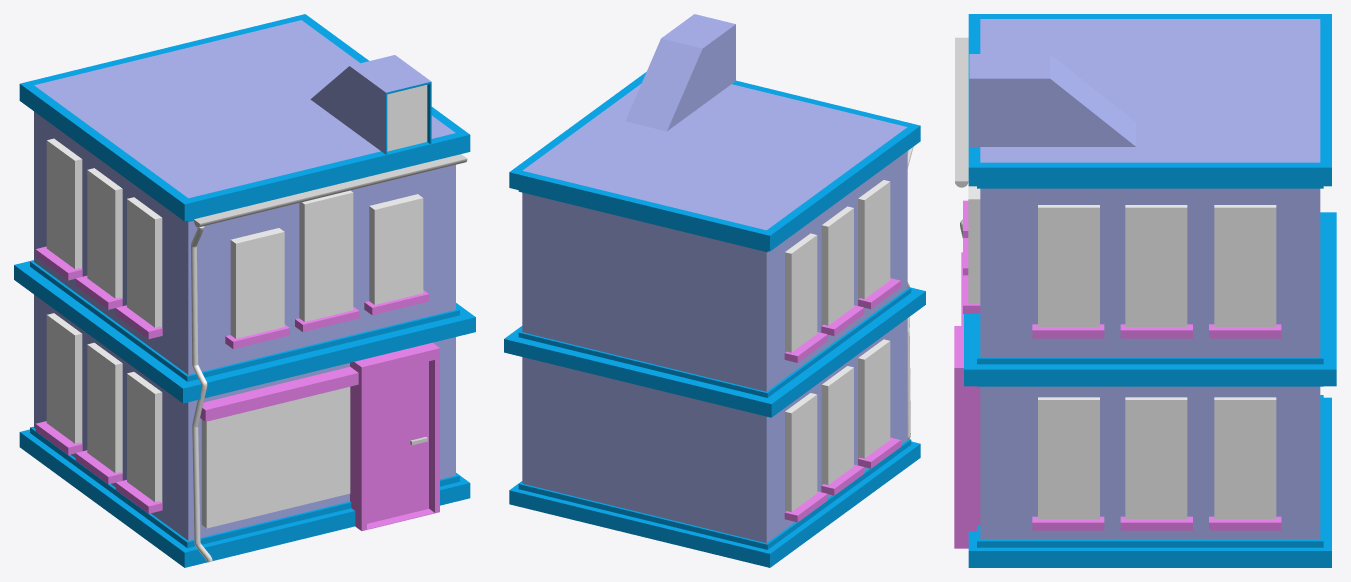
Rendered from Building3.fbx.
3 views of the same model, side by side, from view 1: azimuth 30°, elevation 25°; view 2: azimuth 150°, elevation 25°; view 3: azimuth 270°, elevation 25° (orthographic). The views are drawn at different scales.
Parts seen in each view (by area): view 1: Cube_2_2, Cube_5, Cube_1, Cube_16, Cube_15, Cube_33, Cube_34, Cube_32, Cube_26, Cube_2, Cube_28, Cube_27 (+16 smaller); view 2: Cube_2_2, Cube_16, Cube_15, Cube_27, Cube_28, Cube_26, Cube_2, Cube, Cube_3, Cube_10, Cube_1_2, Cube_10_2 (+6 smaller); view 3: Cube_2_2, Cube_15, Cube_16, Cube_25, Cube_24, Cube_6, Cube_4, Cube_23, Cube_7, Cube_1, Cube_1_2, Cube_10 (+9 smaller).
Part boxes in pixels (x1,y1,x2,y2): Cube_2_2: [19, 14, 470, 567]; Cube_5: [201, 387, 350, 528]; Cube_1: [350, 342, 439, 530]; Cube_16: [14, 260, 475, 403]; Cube_15: [310, 55, 431, 154]; Cube_33: [299, 190, 353, 321]; Cube_34: [230, 228, 284, 338]; Cube_32: [369, 194, 423, 304]; Cube_26: [46, 138, 82, 268]; Cube_2: [46, 313, 82, 443]; Cube_28: [127, 197, 162, 327]; Cube_27: [87, 168, 122, 298]; Cube_2_2: [509, 72, 920, 567]; Cube_16: [504, 287, 925, 417]; Cube_15: [625, 14, 735, 131]; Cube_27: [821, 206, 853, 325]; Cube_28: [858, 180, 890, 298]; Cube_26: [785, 233, 817, 352]; Cube_2: [785, 393, 817, 511]; Cube: [821, 366, 853, 484]; Cube_3: [858, 339, 890, 458]; Cube_10: [518, 439, 911, 549]; Cube_1_2: [518, 287, 911, 397]; Cube_10_2: [784, 491, 827, 522]; Cube_2_2: [968, 14, 1331, 567]; Cube_15: [969, 54, 1136, 146]; Cube_16: [964, 212, 1336, 386]; Cube_25: [1214, 205, 1276, 326]; Cube_24: [1125, 205, 1187, 326]; Cube_6: [1125, 397, 1187, 518]; Cube_4: [1214, 397, 1276, 518]; Cube_23: [1038, 205, 1099, 326]; Cube_7: [1038, 397, 1099, 518]; Cube_1: [954, 326, 980, 548]; Cube_1_2: [977, 212, 1323, 364]; Cube_10: [977, 395, 1323, 547].
Size of the model in its own units: 222 by 304 by 225.
